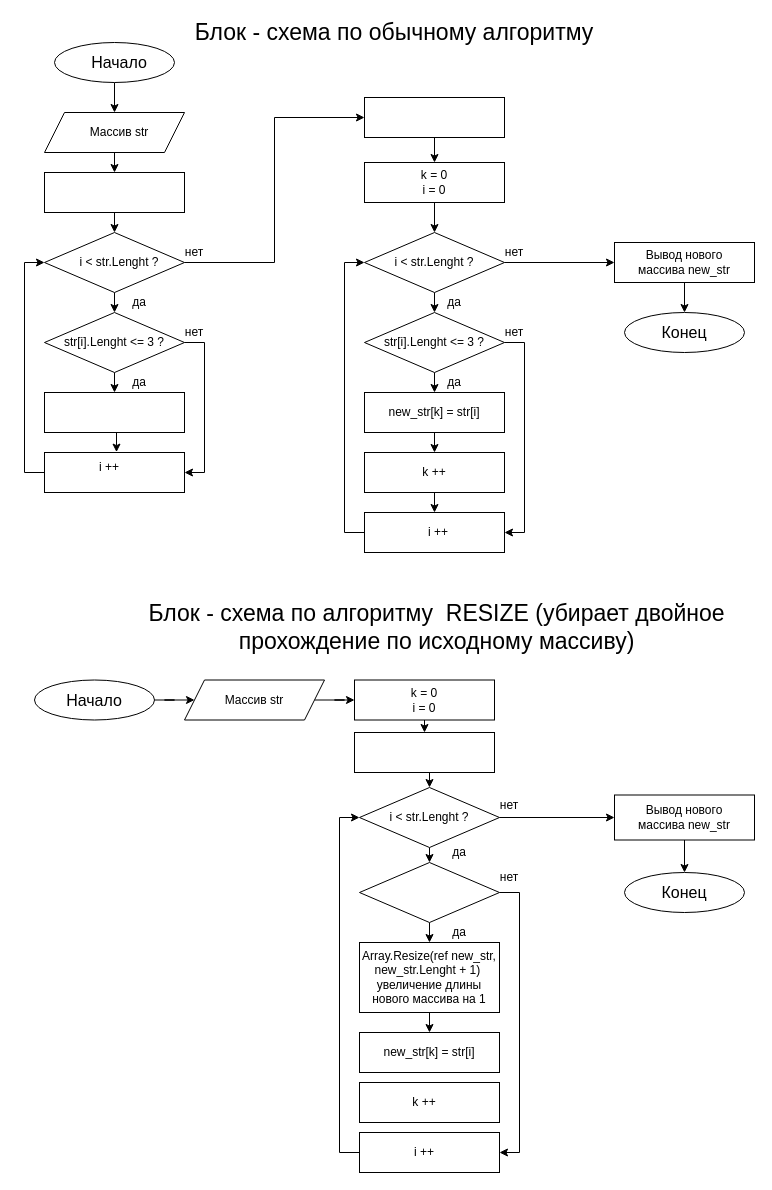
Image size: 772x1190. Some labels were removed from this diagram. Here are the shapes that lost their labels. From the top down, the centre of each, then its label:
At pixel 434 117: "Инициализация нового массива new_str".
At pixel 114 192: "count = 0 i = 0".
At pixel 114 412: "count ++".
At pixel 424 752: "string [] new_str = new string [k]".
At pixel 429 892: "str[i].Lenght <= 3".
